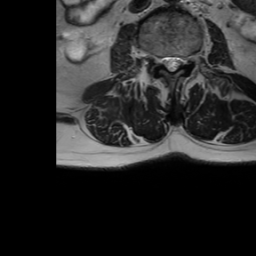CCS_stenosis: (168, 48, 175, 78)
LFS_normal: (182, 49, 190, 72)
LLS_normal: (175, 49, 182, 74)
RFS_normal: (154, 49, 162, 71)
RLS_normal: (162, 50, 168, 72)
